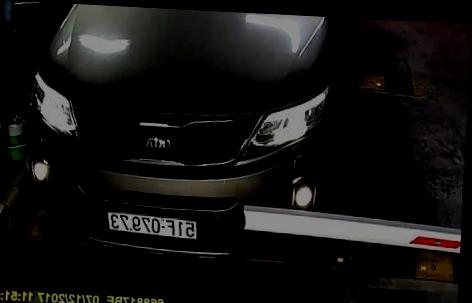License_Plate: (102, 207, 200, 240)
